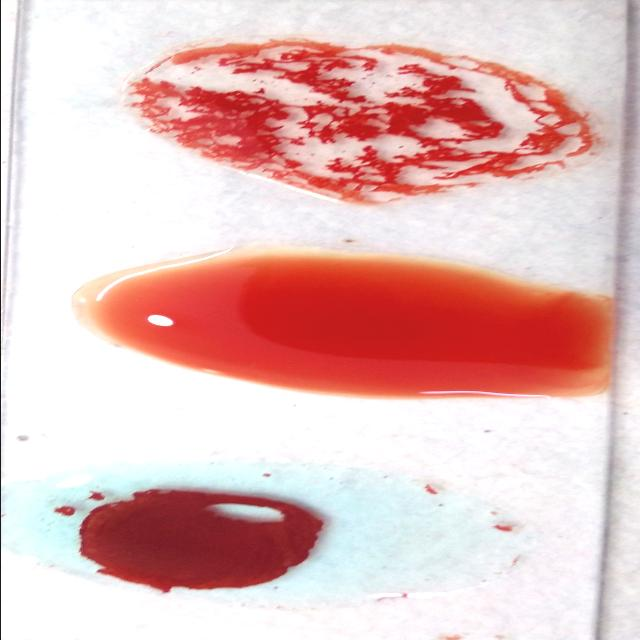A: (9, 472, 508, 607)
D: (134, 43, 598, 193)
